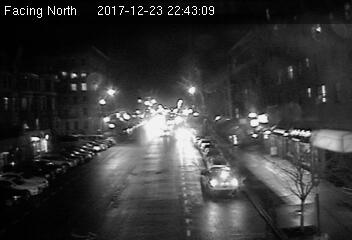car: (198, 164, 240, 194)
